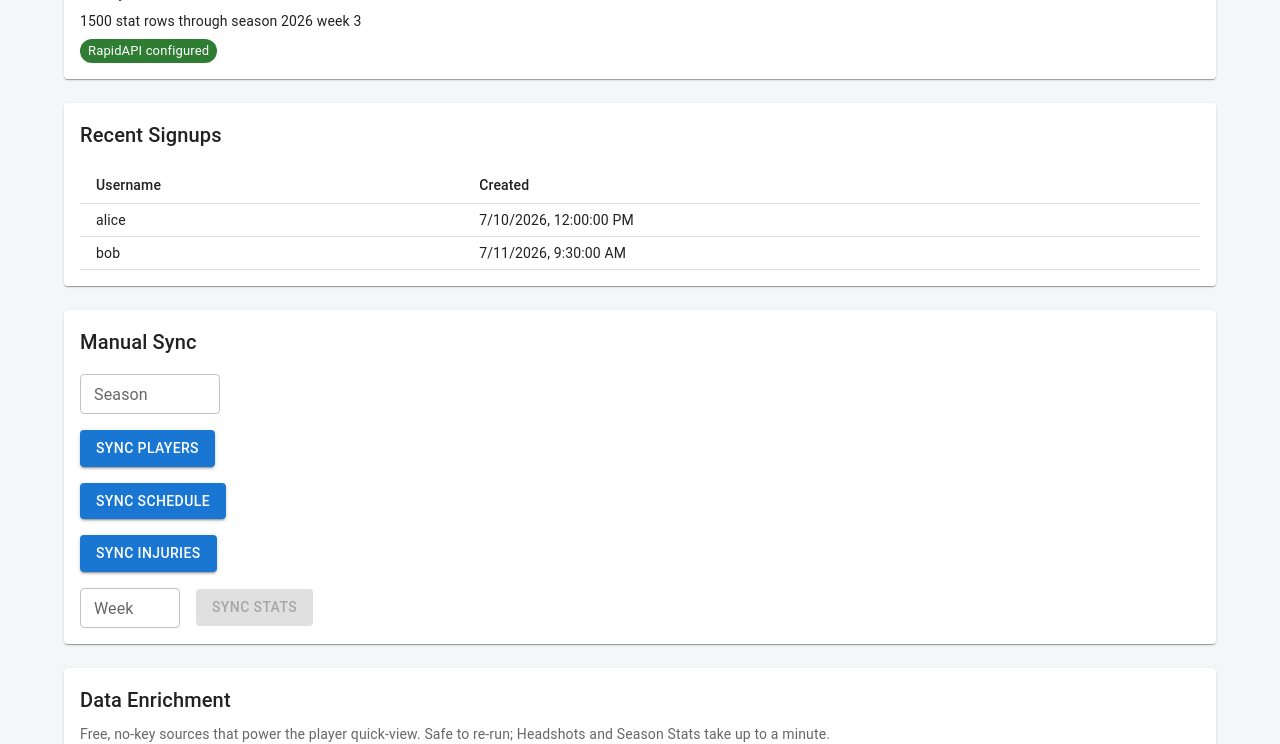
typing a season includes it in the Sync Schedule request body
(page scrolled)
Type "2026" into the number field labelled "Season".
click(150, 394); type("2026")  # box x1=80 y1=374 x2=220 y2=414
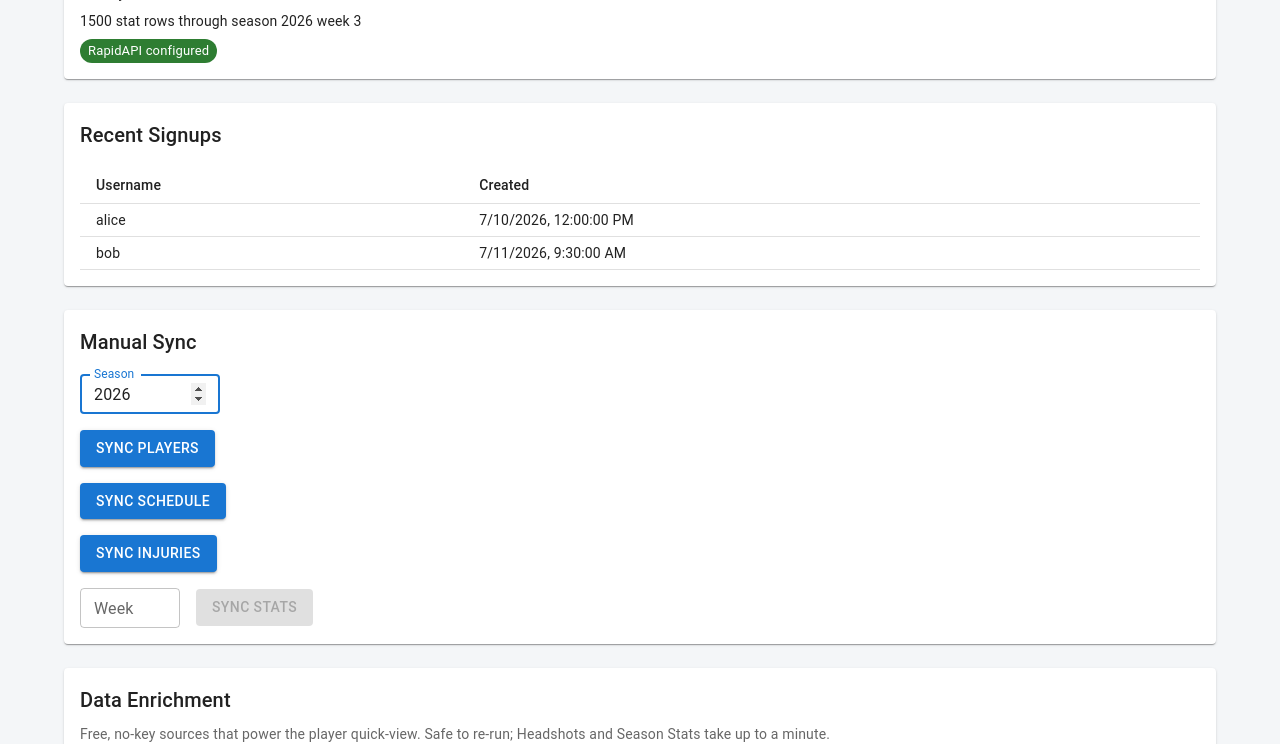
Click the button "Sync Schedule".
click(153, 501)  # box x1=80 y1=482 x2=226 y2=519
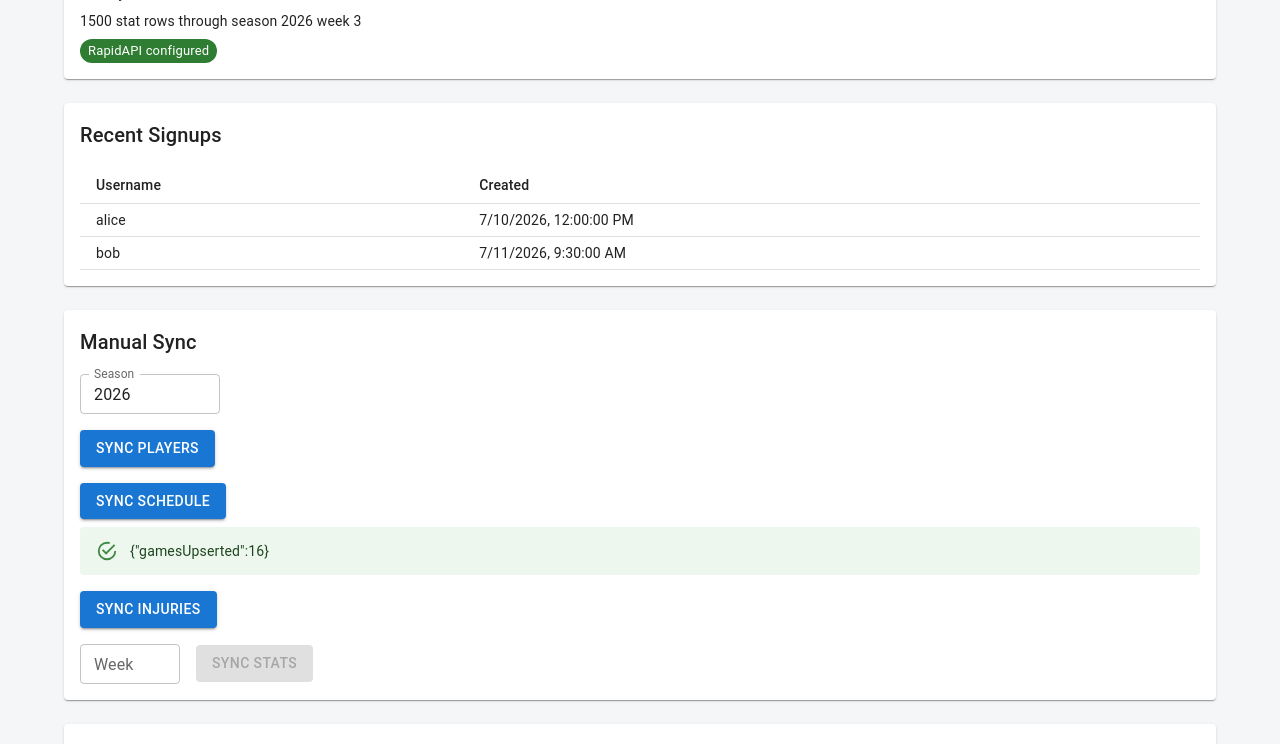
Expected: the text "{\"gamesUpserted\":16}" is shown, x1=130 y1=543 x2=269 y2=559
